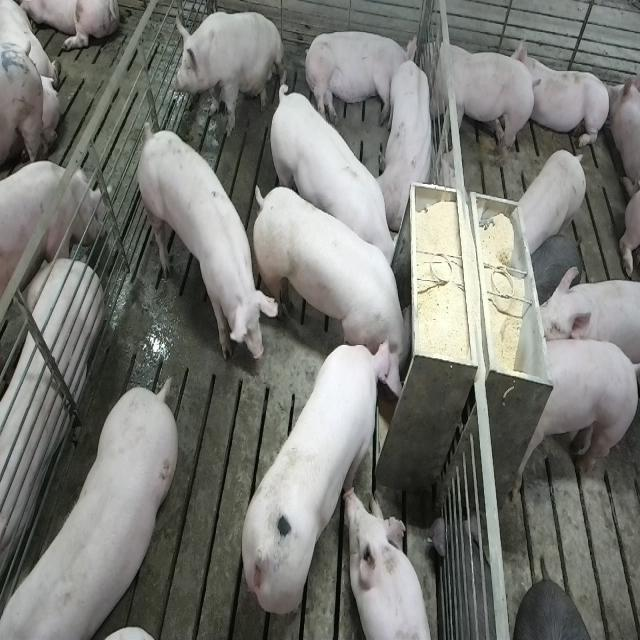Feeding: (240, 337, 398, 619), (254, 176, 420, 392)
Lateral_lying: (0, 252, 101, 605), (302, 28, 418, 128)
Sitting: (171, 8, 285, 138)
Standing: (0, 380, 175, 640), (134, 118, 272, 371), (265, 79, 397, 284), (515, 336, 638, 494), (421, 32, 539, 174), (0, 162, 105, 306), (530, 269, 637, 374), (516, 150, 588, 258)
Sternal_lying: (346, 488, 433, 640), (518, 36, 612, 154), (378, 55, 437, 231)
